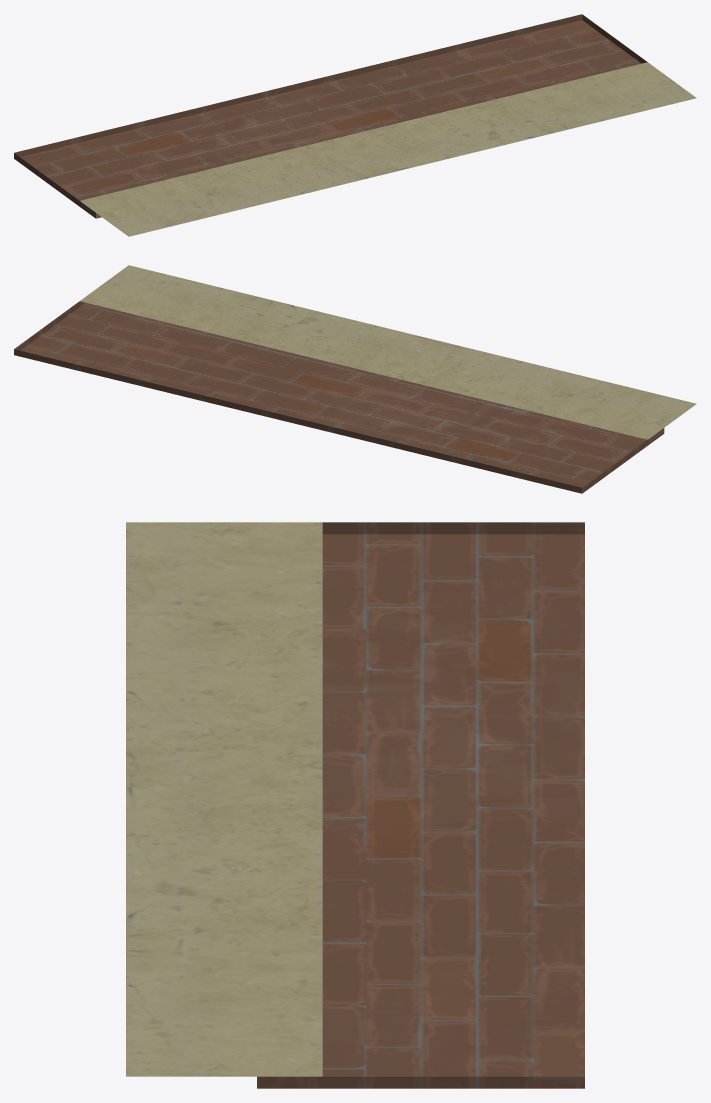
The model's file is Trim_90Angle_TopCover.gltf.
3 renders of one model, top to bottom at view 1: azimuth 30°, elevation 25°; view 2: azimuth 150°, elevation 25°; view 3: azimuth 270°, elevation 25°, orthographic. The views are drawn at different scales.
Visible parts, largest first — view 1: Trim_90Angle_TopCover; view 2: Trim_90Angle_TopCover; view 3: Trim_90Angle_TopCover.
Part boxes in pixels (x1,y1,x2,y2): Trim_90Angle_TopCover: [14, 14, 696, 236]; Trim_90Angle_TopCover: [14, 265, 696, 493]; Trim_90Angle_TopCover: [126, 522, 584, 1088].
Size of the model in its own units: 2 by 0.02 by 0.7.
2 materials, 2 textured.
